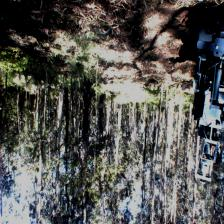trunktrack_idkeyframe: (83, 89, 92, 134)
